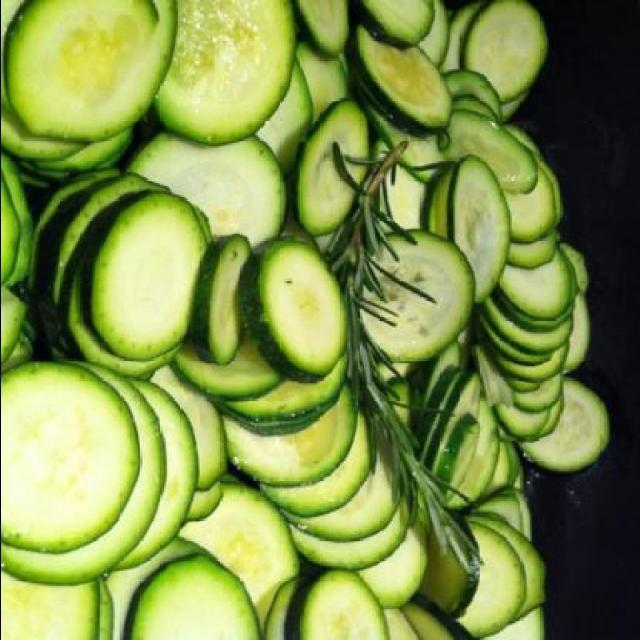Zucchini: (1, 0, 614, 638), (1, 348, 144, 558)
